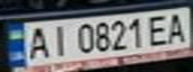0: (72, 20, 96, 54)
1: (127, 15, 148, 49)
2: (109, 17, 130, 52)
8: (93, 18, 115, 53)
A: (21, 24, 54, 61), (163, 10, 190, 44)
E: (145, 12, 172, 47)
I: (45, 21, 72, 57)
